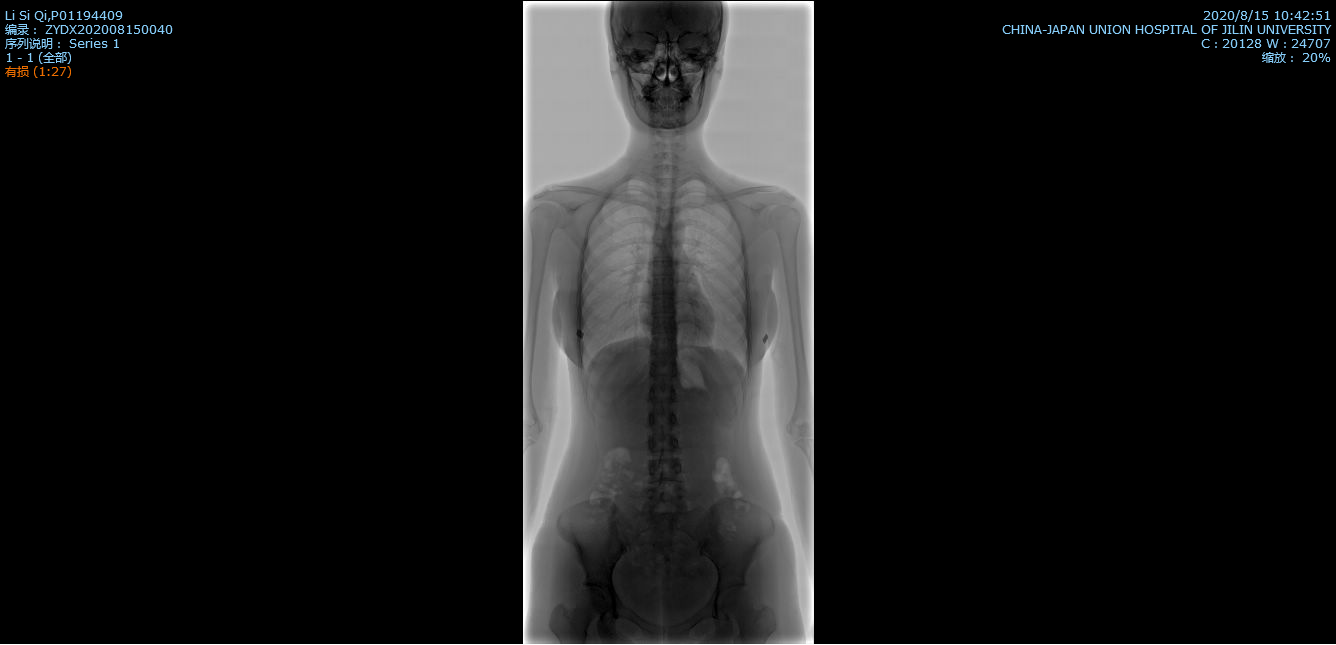胸10椎体: (652, 317, 676, 332)
胸11椎体: (651, 338, 676, 355)
胸12椎体: (650, 359, 676, 375)
胸7椎体: (652, 259, 673, 274)
胸8椎体: (652, 278, 675, 293)
胸9椎体: (653, 297, 676, 313)
腰2椎体: (648, 410, 677, 427)
腰3椎体: (648, 433, 680, 452)
腰4椎体: (647, 460, 681, 481)
腰5椎体: (648, 492, 686, 514)
腰椎1体: (649, 384, 676, 403)
